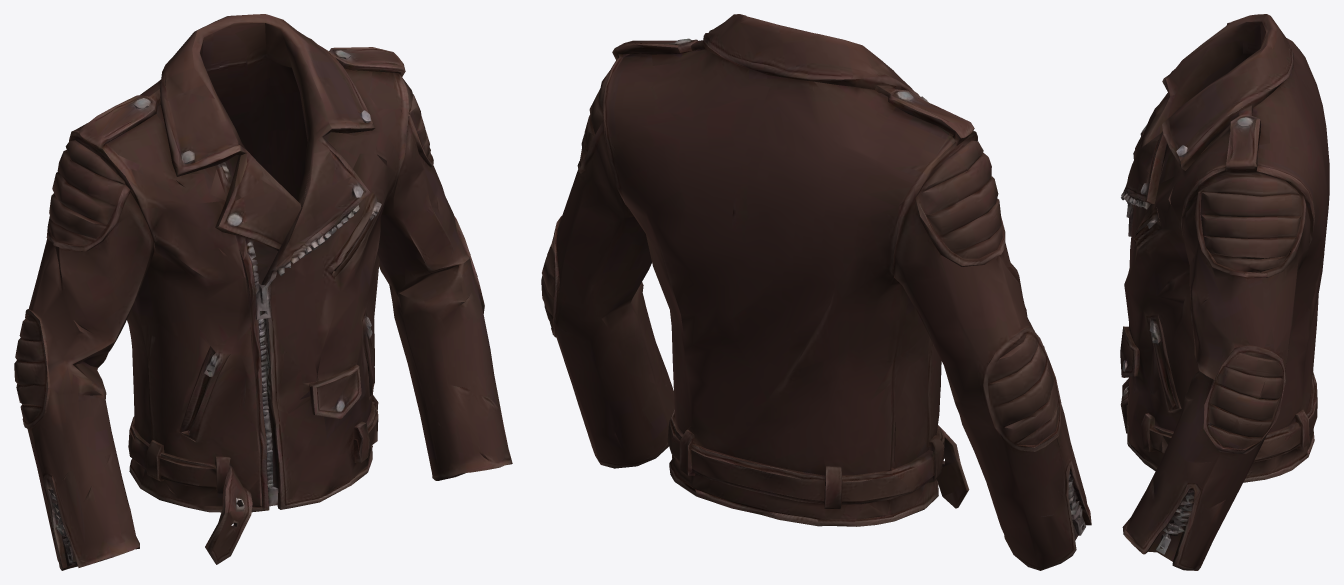
File: cloth_jacket_kozhanaya_idle.glb
3 renders of one model, left to right at view 1: azimuth 30°, elevation 25°; view 2: azimuth 150°, elevation 25°; view 3: azimuth 270°, elevation 25°, orthographic. The views are drawn at different scales.
Parts seen in each view (by area): view 1: tripo_node_fa4921a5-3b7d-427b-9143-5989fbe6211f; view 2: tripo_node_fa4921a5-3b7d-427b-9143-5989fbe6211f; view 3: tripo_node_fa4921a5-3b7d-427b-9143-5989fbe6211f.
Boxes of the visible parts, x1,y1,x2,y2 form: tripo_node_fa4921a5-3b7d-427b-9143-5989fbe6211f: (14, 14, 512, 570); tripo_node_fa4921a5-3b7d-427b-9143-5989fbe6211f: (541, 14, 1091, 570); tripo_node_fa4921a5-3b7d-427b-9143-5989fbe6211f: (1120, 14, 1329, 570).
Size of the model in its own units: 0.6984 by 0.7002 by 0.2941.
Materials: 1 (1 with a texture image).
